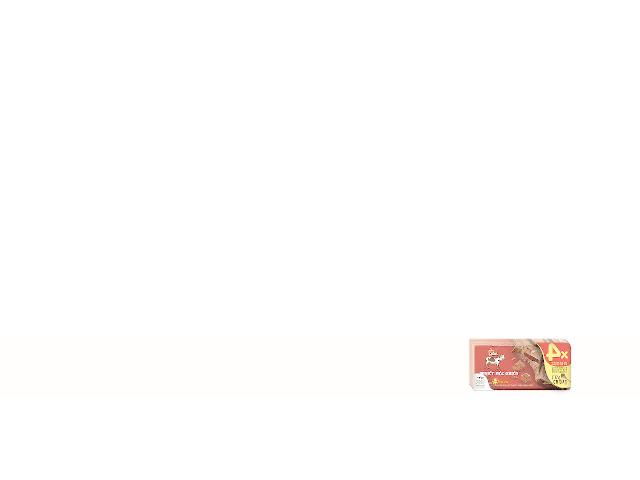chocolate: (470, 339, 572, 393)
